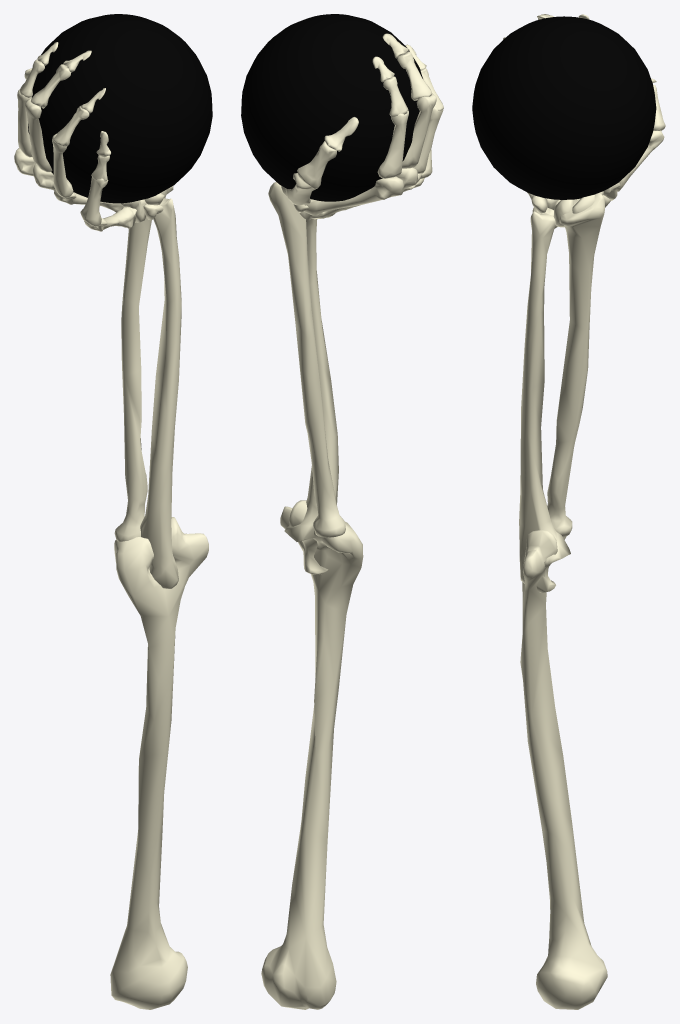
File: костяной фонарь.FBX
3 views of the same model, side by side, from view 1: azimuth 30°, elevation 25°; view 2: azimuth 150°, elevation 25°; view 3: azimuth 270°, elevation 25° (orthographic). The views are drawn at different scales.
Visible parts, largest first — view 1: Sphere01, Humerus, Ulna, Radius, Mid_Prox, Lit_Prox, Thi_Prox, Ind_Prox, Lit_Meta, Mid_Midd, Thi_Midd; view 2: Sphere01, Humerus, Radius, Ulna, Ind_Meta, Mid_Prox, Ind_Prox, Thu_Prox, Mid_Midd, Thi_Prox, Thu_Meta, Ind_Midd (+2 smaller); view 3: Sphere01, Humerus, Radius, Ulna, Thu_Meta.
Part boxes in pixels (box(x1,y1,x2,y2)): Sphere01: box(28, 14, 212, 203); Humerus: box(110, 517, 208, 1009); Ulna: box(140, 198, 181, 588); Radius: box(114, 186, 173, 541); Mid_Prox: box(25, 98, 52, 172); Lit_Prox: box(80, 177, 108, 226); Thi_Prox: box(52, 133, 73, 198); Ind_Prox: box(17, 89, 32, 157); Lit_Meta: box(84, 207, 136, 231); Mid_Midd: box(30, 64, 71, 108); Thi_Midd: box(53, 106, 89, 147); Sphere01: box(241, 14, 422, 201); Humerus: box(261, 500, 363, 1009); Radius: box(268, 182, 345, 537); Ulna: box(284, 218, 338, 574); Ind_Meta: box(304, 176, 404, 215); Mid_Prox: box(402, 94, 436, 168); Ind_Prox: box(377, 110, 408, 178); Thu_Prox: box(297, 141, 336, 189); Mid_Midd: box(397, 52, 432, 100); Thi_Prox: box(413, 106, 443, 173); Thu_Meta: box(285, 173, 314, 205); Ind_Midd: box(383, 76, 408, 116); Sphere01: box(472, 16, 656, 199); Humerus: box(520, 529, 607, 1009); Radius: box(547, 193, 604, 537); Ulna: box(519, 211, 570, 592); Thu_Meta: box(616, 130, 664, 191).
Size of the model in its own units: 737 by 3957 by 718.
